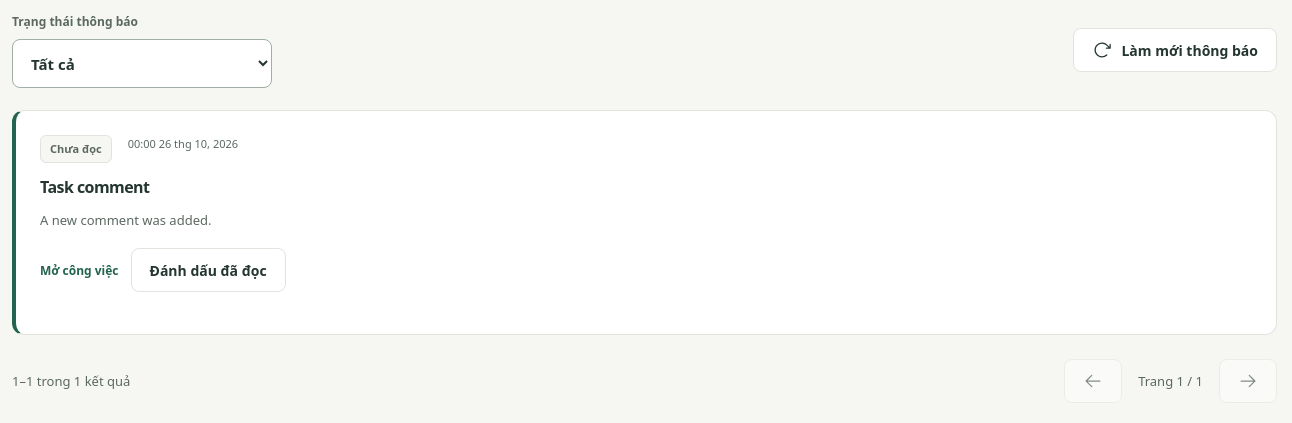
Scenario: Personal notification UI › redacts denied Workspace notifications and refreshes once instead of looping
Step 1. Click the button "Đánh dấu đã đọc" → x=208, y=270, box [130,248,286,292]
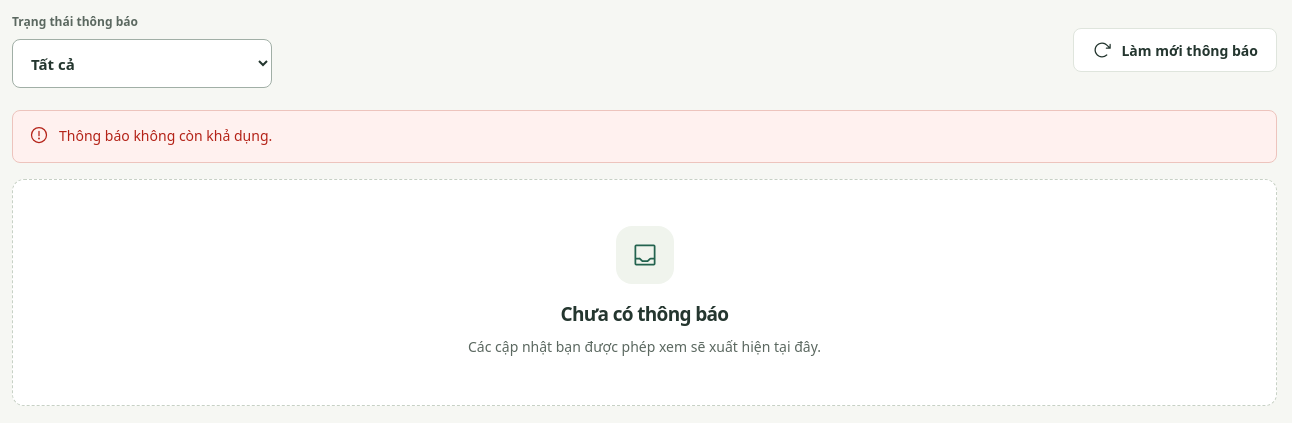
Now the message reads "Thông báo không còn khả dụng.", box [59,126,272,145]
